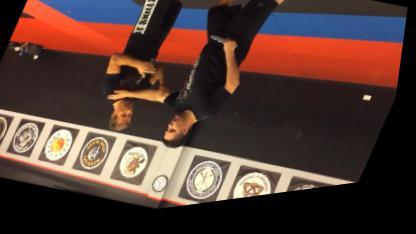knife: (207, 34, 245, 60)
